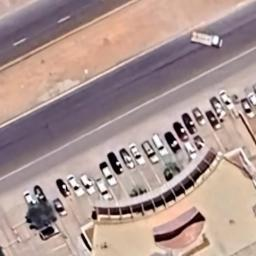SUV: (96, 160, 120, 188), (97, 178, 115, 200)
sedan: (65, 170, 85, 198), (78, 170, 96, 196), (202, 108, 222, 131), (218, 86, 235, 112), (209, 94, 226, 118), (50, 196, 70, 216), (242, 98, 256, 124), (56, 176, 71, 200), (22, 188, 39, 208), (194, 102, 206, 129)
truck: (186, 28, 225, 48)
unknown: (152, 132, 172, 160), (40, 222, 62, 245), (164, 129, 184, 154), (106, 151, 126, 176), (180, 111, 198, 135), (174, 120, 192, 144), (33, 183, 50, 205)
van: (141, 140, 160, 166), (118, 148, 138, 170), (128, 142, 144, 166)
